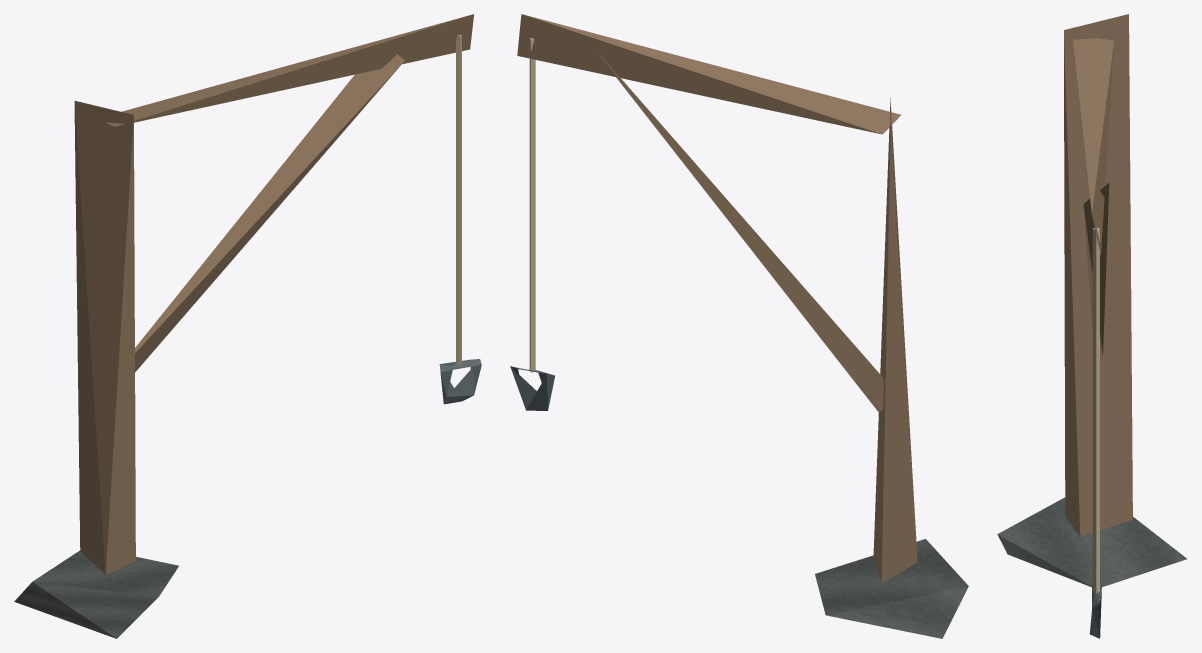
The model's file is harbor.hand_crane.lod2.glb.
3 renders of one model, left to right at view 1: azimuth 30°, elevation 25°; view 2: azimuth 150°, elevation 25°; view 3: azimuth 270°, elevation 25°, orthographic. The views are drawn at different scales.
Parts seen in each view (by area): view 1: Post, Brace, Arm, Base, Cable, Hook; view 2: Arm, Post, Base, Brace, Cable, Hook; view 3: Post, Base, Arm, Cable, Brace, Hook.
Boxes of the visible parts, x1,y1,x2,y2 form: Post: [74, 101, 135, 574]; Brace: [135, 54, 404, 372]; Arm: [106, 14, 473, 126]; Base: [14, 550, 178, 638]; Cable: [456, 34, 461, 366]; Hook: [439, 359, 481, 404]; Arm: [517, 14, 901, 134]; Post: [873, 97, 917, 583]; Base: [815, 539, 968, 638]; Brace: [599, 54, 883, 412]; Cable: [529, 38, 535, 372]; Hook: [510, 366, 554, 410]; Post: [1064, 14, 1132, 536]; Base: [997, 497, 1186, 587]; Arm: [1073, 38, 1113, 256]; Cable: [1092, 227, 1099, 594]; Brace: [1083, 183, 1109, 355]; Hook: [1089, 581, 1101, 638].
Bounding box in the file's own units: 3.43 × 3.64 × 1.13.
Materials: 4 (1 with a texture image).
